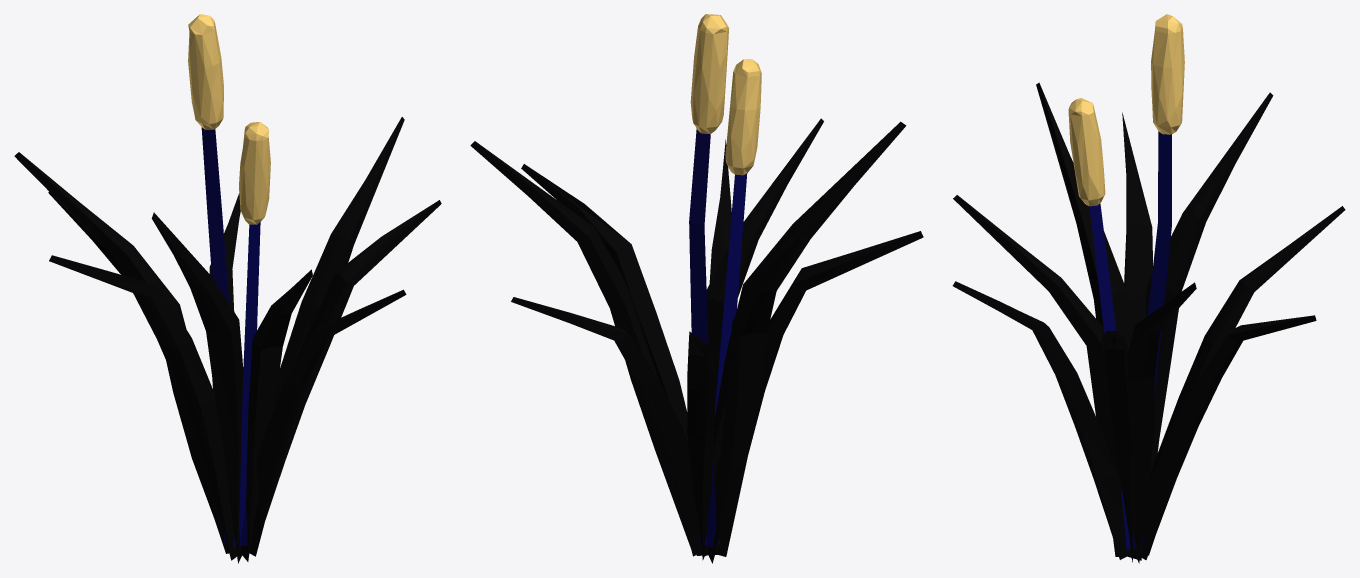
Rendered from PatchReed02.fbx.
3 views of the same model, side by side, from view 1: azimuth 30°, elevation 25°; view 2: azimuth 150°, elevation 25°; view 3: azimuth 270°, elevation 25° (orthographic). The views are drawn at different scales.
Visible parts, largest first — view 1: Reed02; view 2: Reed02; view 3: Reed02.
Boxes of the visible parts, box(x1,y1,x2,y2) form: Reed02: box(14, 14, 441, 563); Reed02: box(470, 14, 923, 563); Reed02: box(952, 14, 1345, 563).
Size of the model in its own units: 103 by 134 by 89.66.
